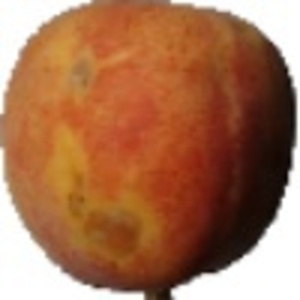pêssego: (1, 1, 298, 300)
